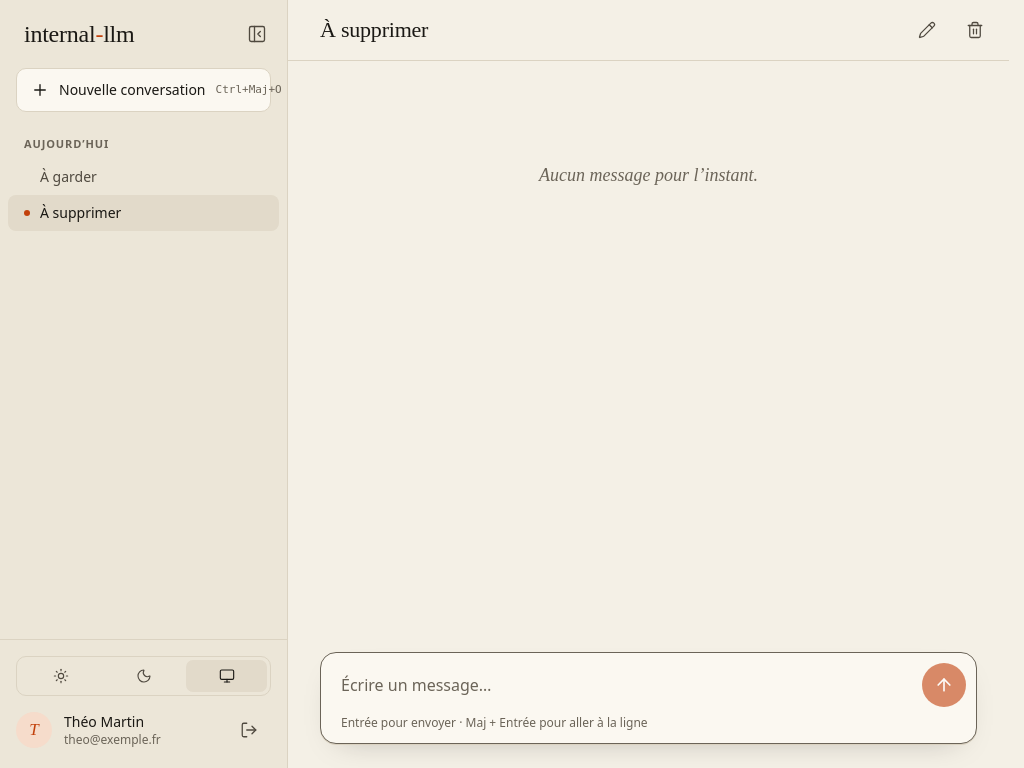
it: deleting a conversation › asks for confirmation, then deletes and goes back home
Expected: the heading "À supprimer" is shown, left=320, top=17, right=428, bottom=42
Click the button named "Supprimer la conversation".
click(975, 30)  # box left=953, top=8, right=997, bottom=52
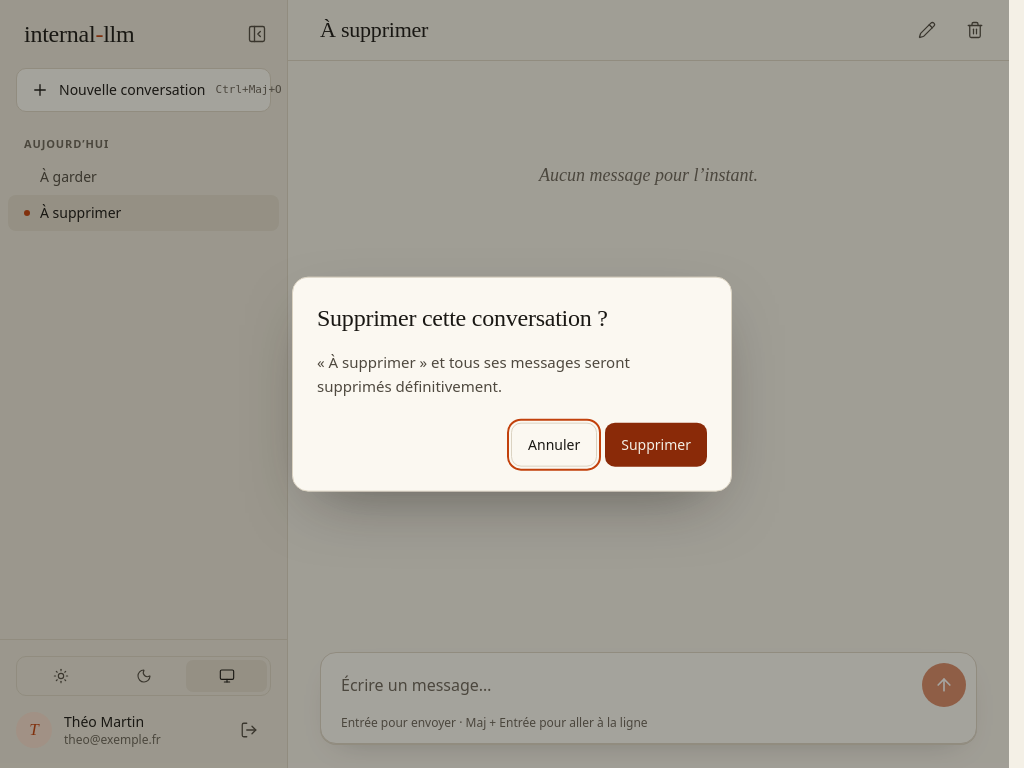
Now the dialog "Supprimer cette conversation ?" shows "« À supprimer » et tous ses messages", box left=292, top=277, right=732, bottom=491
Click the button "Supprimer".
click(656, 444)  # box left=605, top=422, right=707, bottom=466
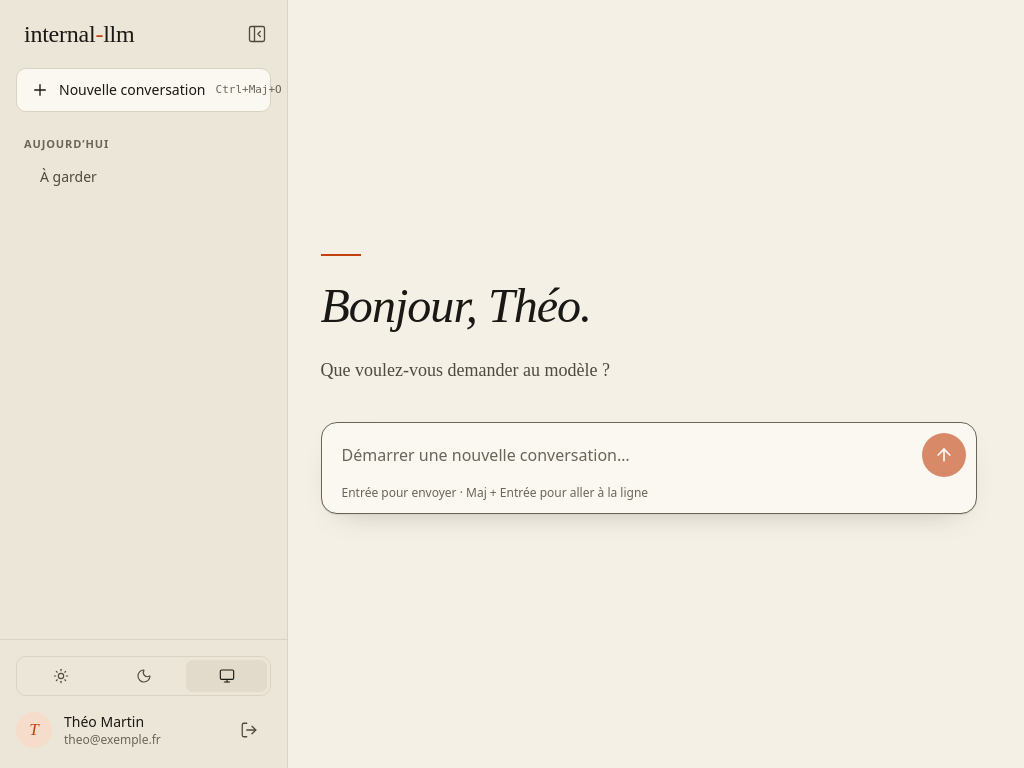
Now the heading "Bonjour, Théo." is shown, box left=320, top=279, right=591, bottom=332
Now the dialog is gone
